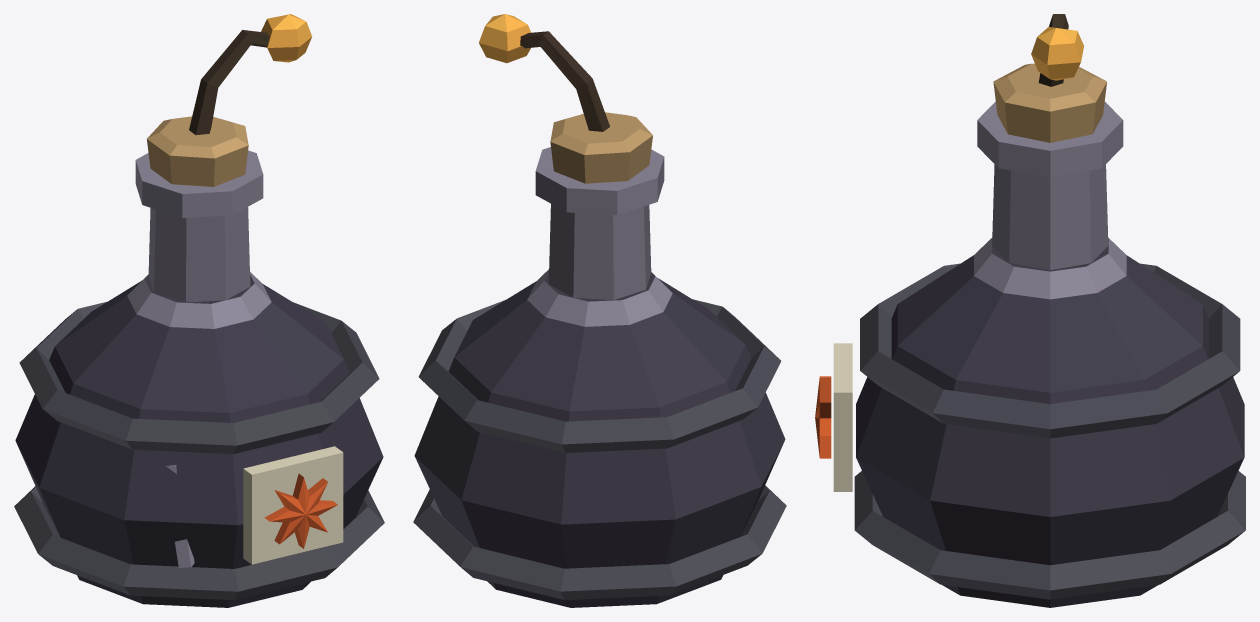
Rendered from item_flask_blast.glb.
3 renders of one model, left to right at view 1: azimuth 30°, elevation 25°; view 2: azimuth 150°, elevation 25°; view 3: azimuth 270°, elevation 25°, orthographic. The views are drawn at different scales.
Parts seen in each view (by area): view 1: item_flask_blast; view 2: item_flask_blast; view 3: item_flask_blast.
Boxes of the visible parts, left/top/right/bottom form: item_flask_blast: left=14, top=14, right=384, bottom=607; item_flask_blast: left=413, top=14, right=786, bottom=607; item_flask_blast: left=815, top=14, right=1245, bottom=607.
Bounding box in the file's own units: 0.282 × 0.452 × 0.2953.
